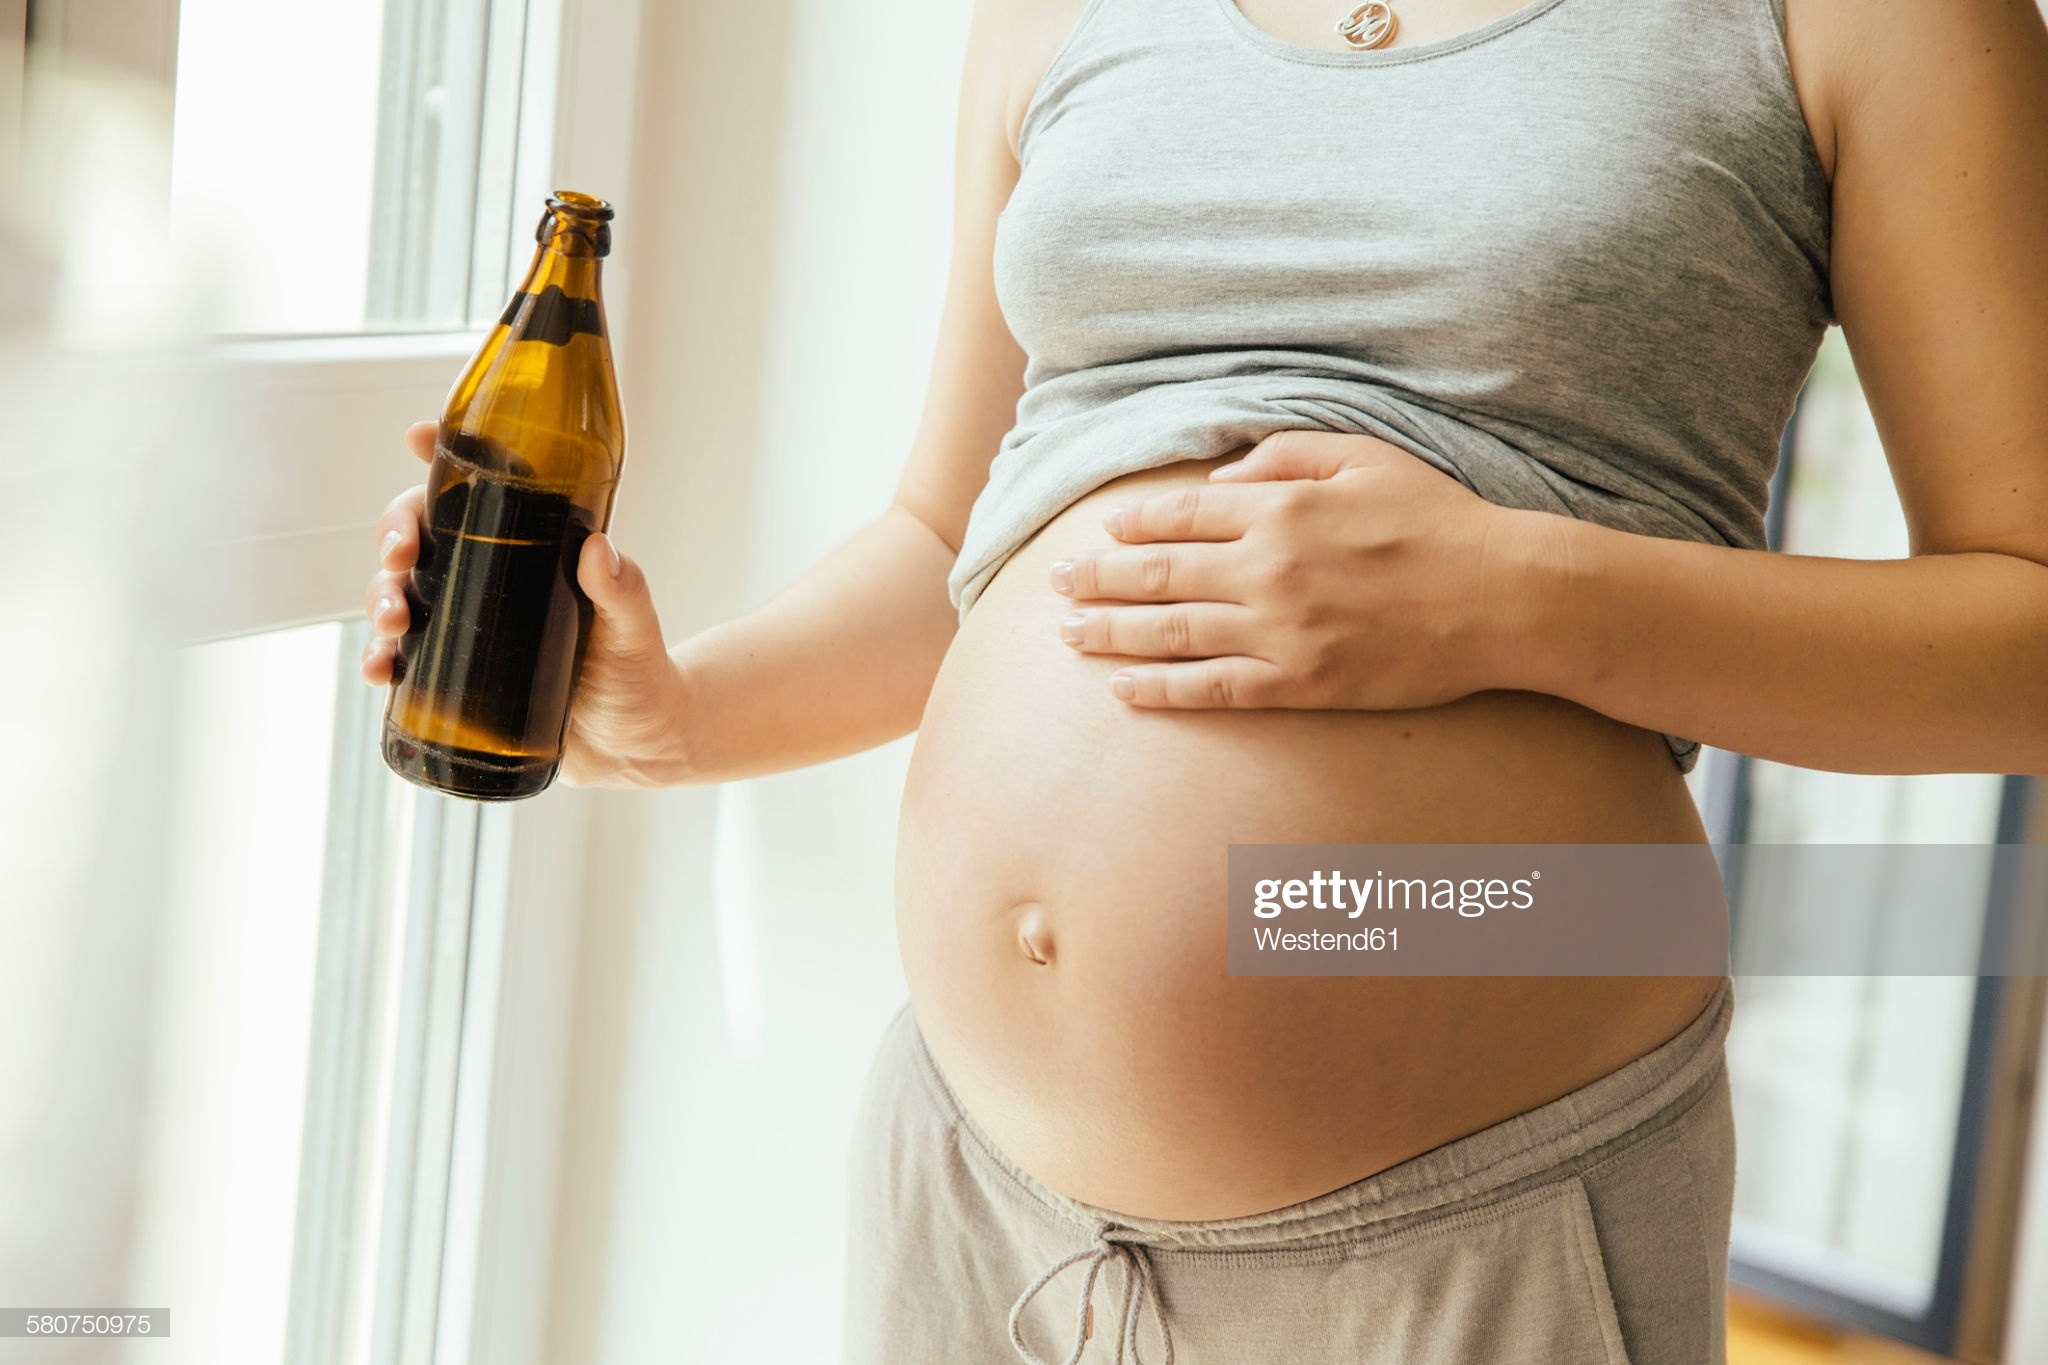beerBottle: (367, 187, 638, 800)
